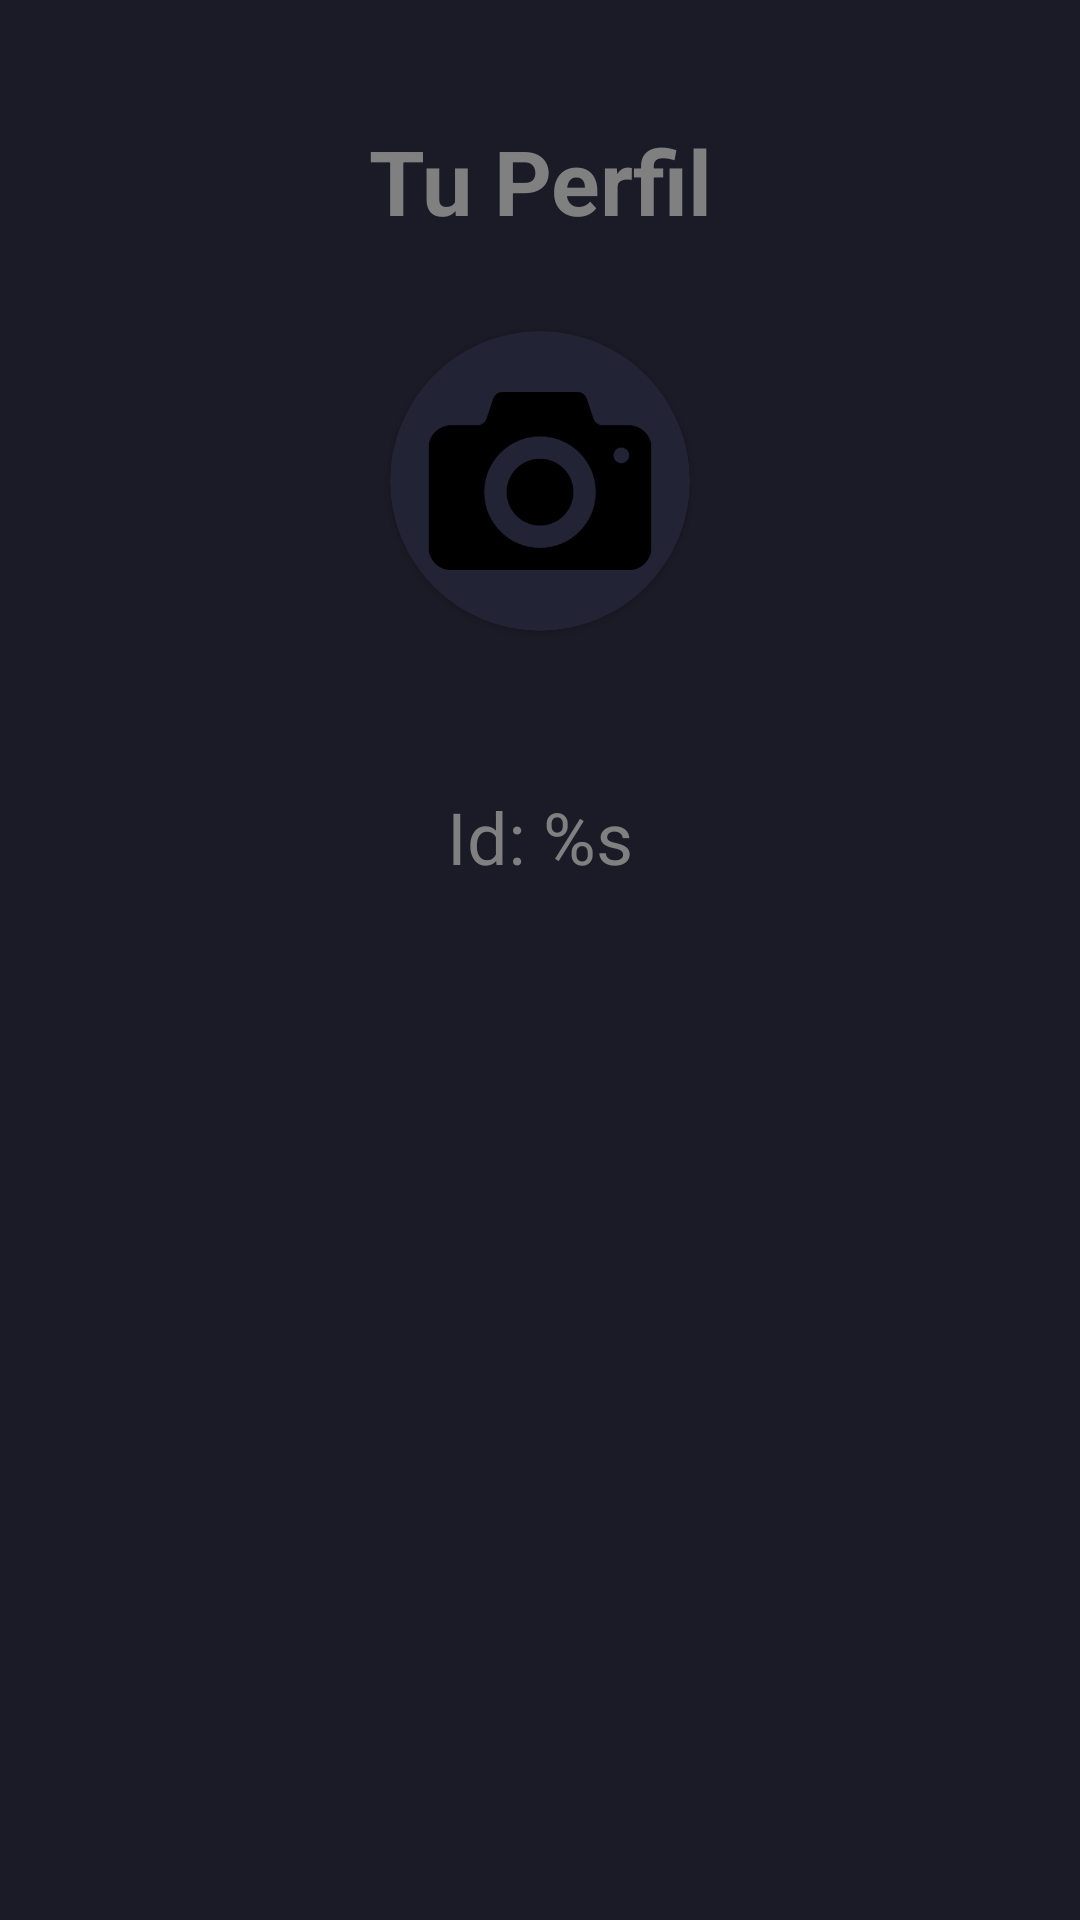

Icon click points for this 1080x1920 phone screenshot, format (x,y):
Foto de perfil: (540,481)
